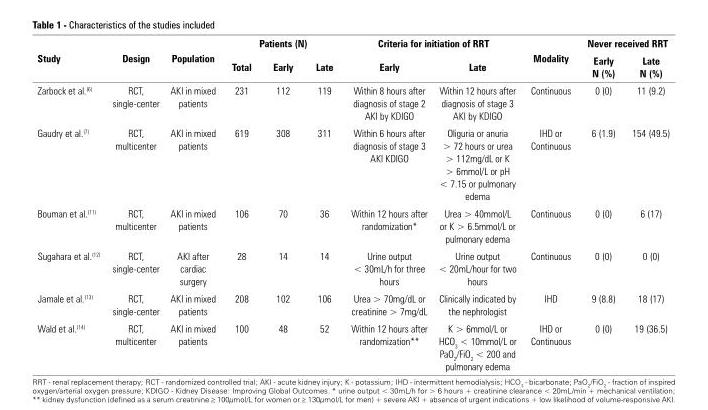table: (36, 36, 669, 371)
table column: (341, 36, 432, 371), (432, 36, 522, 371), (36, 36, 105, 371), (105, 36, 164, 371), (164, 36, 223, 371), (522, 36, 578, 371), (623, 36, 669, 371), (578, 36, 623, 371), (261, 36, 303, 371), (223, 36, 261, 371), (303, 36, 341, 371)
table column header: (36, 36, 669, 81)
table row: (36, 123, 669, 204), (36, 319, 669, 371), (36, 246, 669, 289), (36, 81, 669, 123), (36, 204, 669, 246), (36, 51, 669, 81), (36, 289, 669, 319), (36, 36, 669, 51)
table spanning cell: (36, 36, 105, 81), (341, 36, 522, 51), (105, 36, 164, 81), (164, 36, 223, 81), (522, 36, 578, 81), (223, 36, 341, 51), (578, 36, 669, 51)
